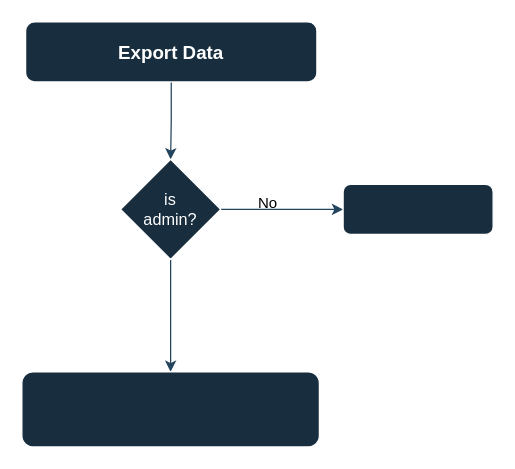
The diagram is 515 pixels wide and 469 high, and some of its shapes have lost their labels. Here are the shapes that lost their labels. From the top down, the box of each, then its label:
(342, 183, 493, 234): Invalid user
(21, 371, 319, 447): Fetch data from database and sent as csv file
